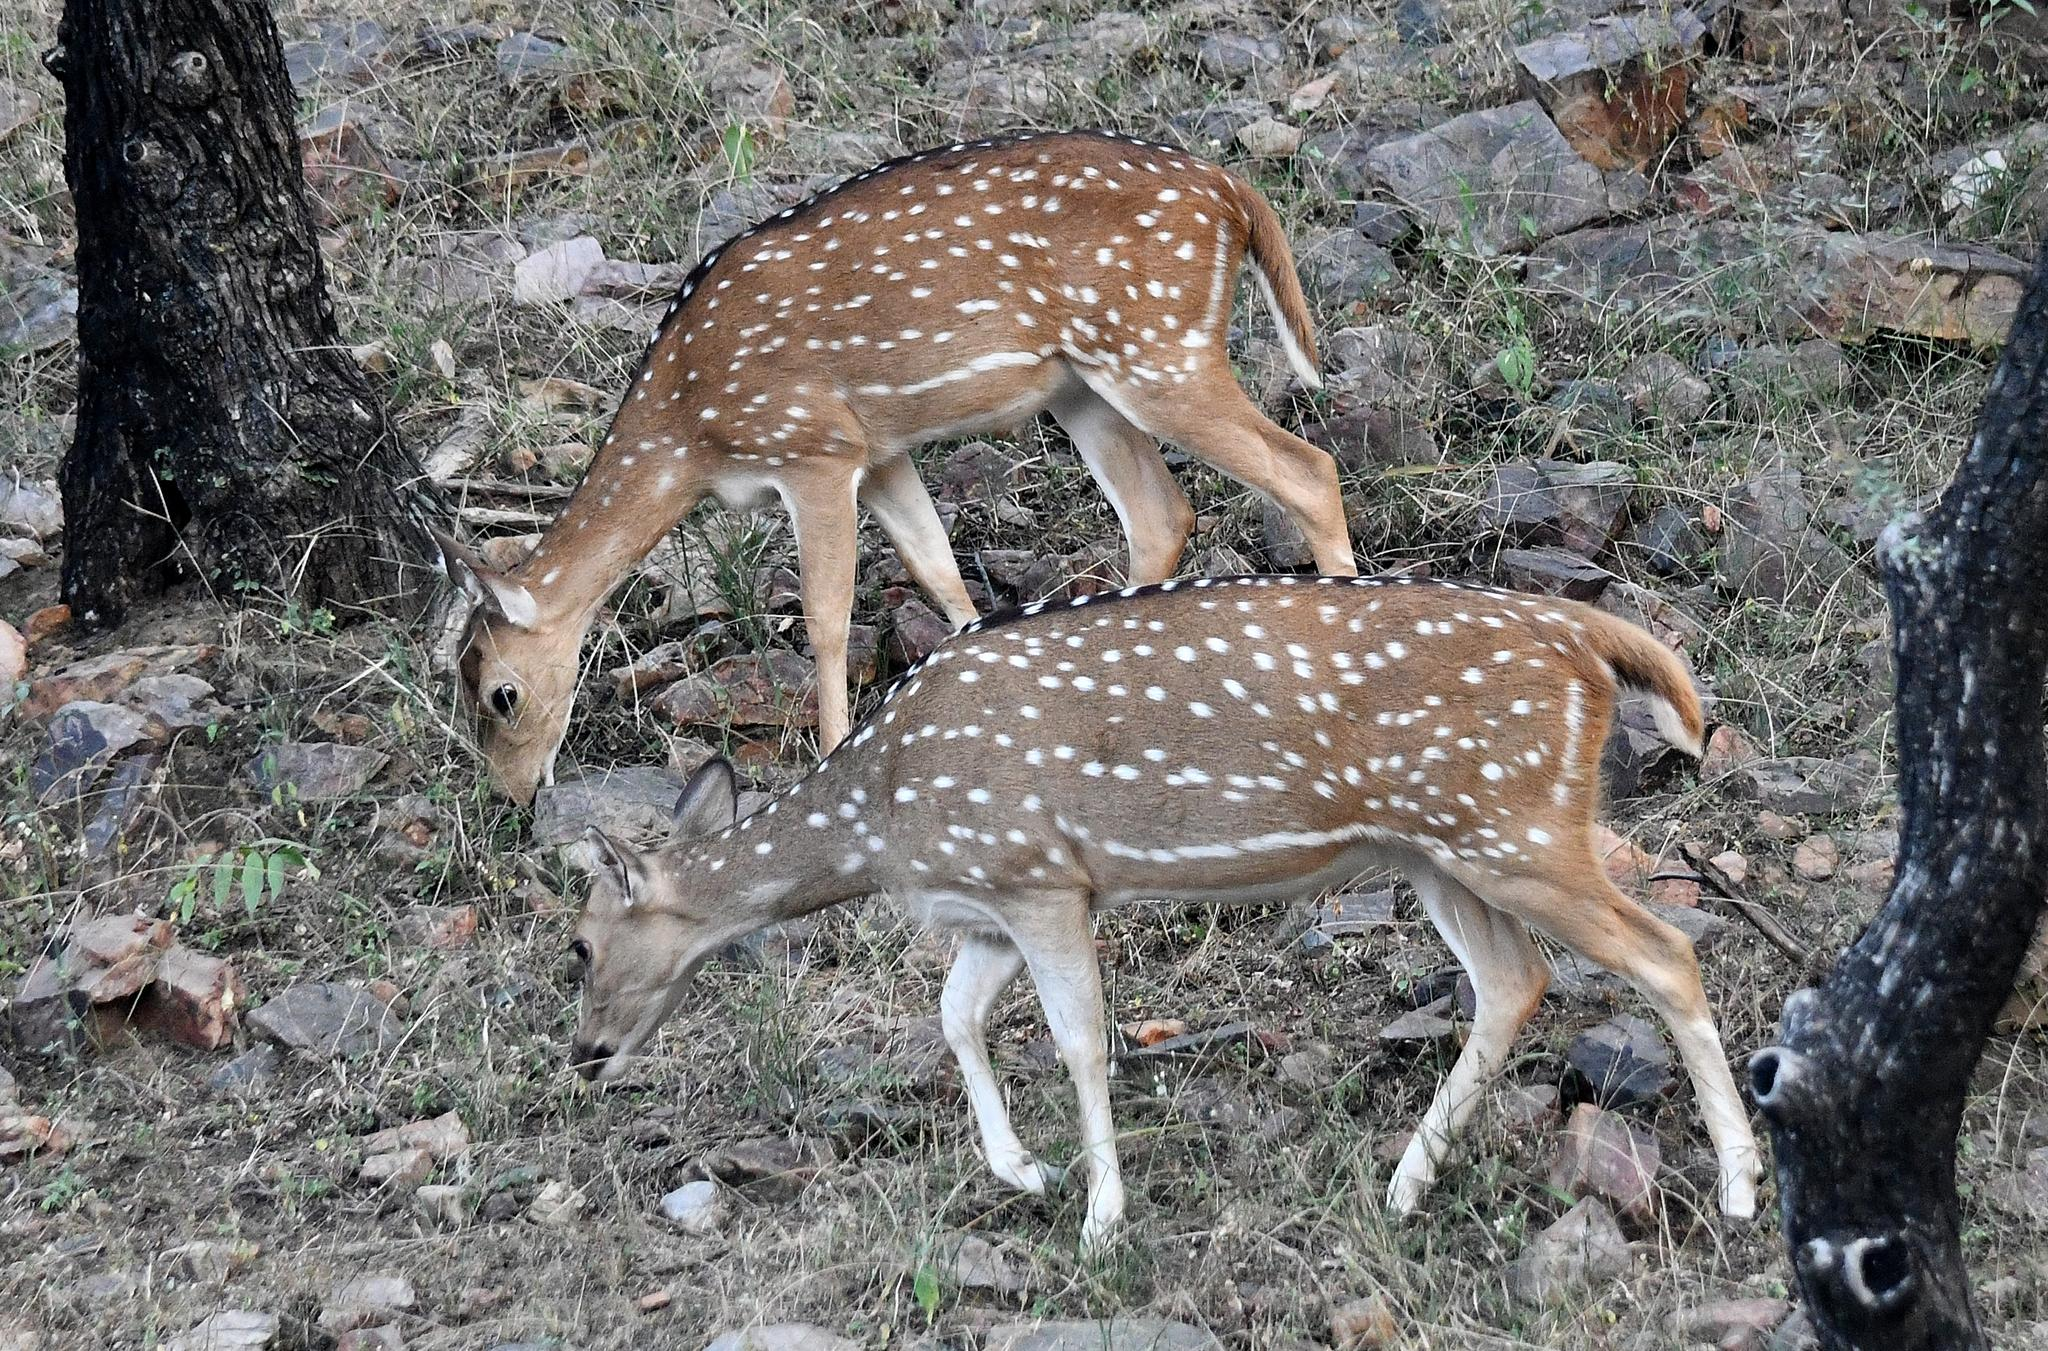Deer: (576, 577, 1762, 1245), (442, 133, 1353, 804)
